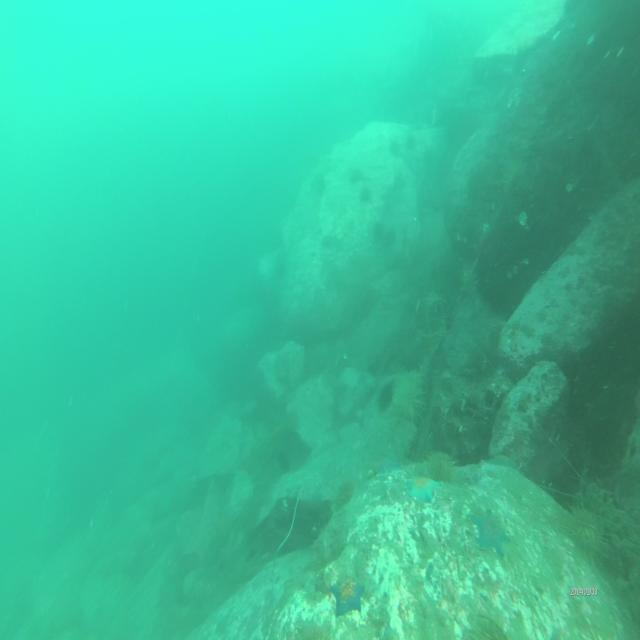echinus: (562, 499, 612, 556), (390, 365, 427, 428)
starfish: (471, 498, 511, 560), (330, 572, 365, 616), (407, 474, 441, 503)
